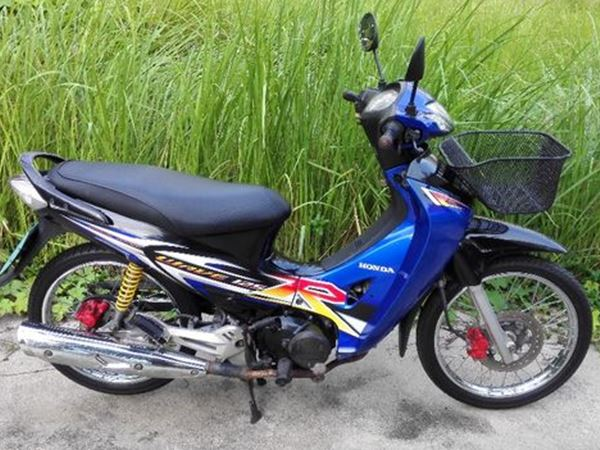motorcycle: (6, 14, 593, 412)
